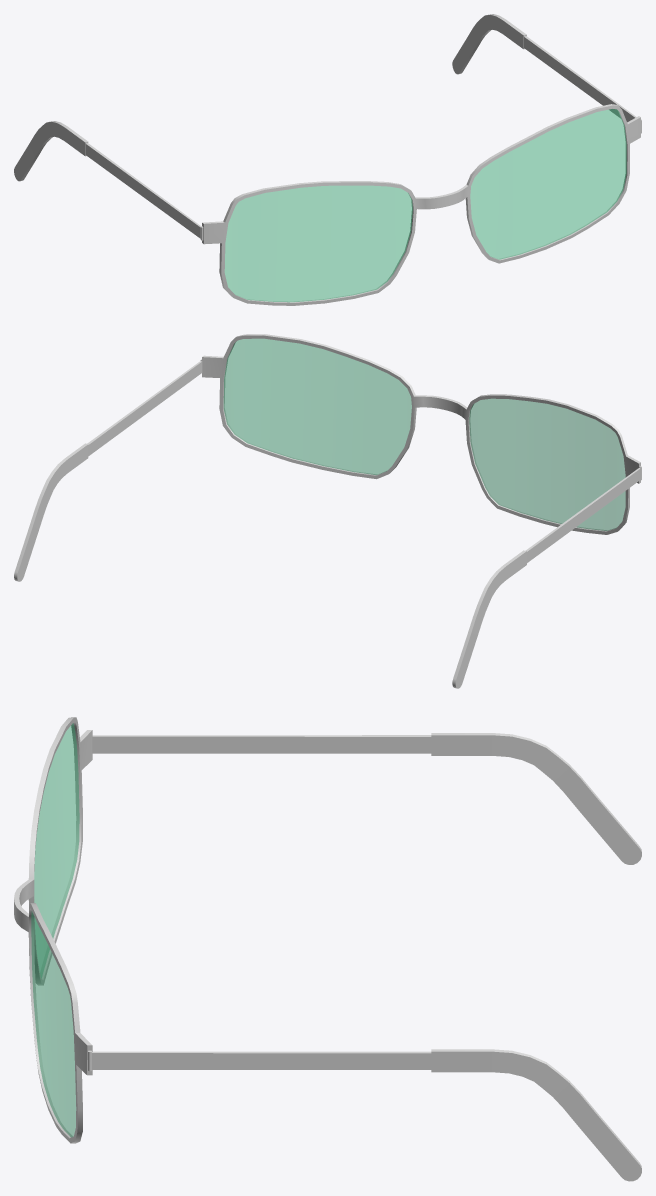
The picture shows the model from 3 angles, top to bottom: view 1: azimuth 30°, elevation 25°; view 2: azimuth 150°, elevation 25°; view 3: azimuth 270°, elevation 25°; orthographic projection. The views are drawn at different scales.
Parts seen in each view (by area): view 1: Lens, black; view 2: Lens, black; view 3: black, Lens.
Part boxes in pixels (box(x1,y1,x2,y2)): Lens: box(224, 109, 626, 302); black: box(14, 14, 641, 305); Lens: box(223, 338, 625, 530); black: box(14, 334, 641, 688); black: box(14, 717, 641, 1181); Lens: box(31, 723, 79, 1137).
Bounding box in the file's own units: 2.04 × 0.5517 × 1.7.
